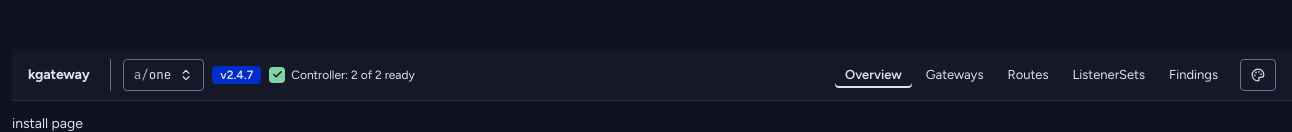
Scenario: shows the cluster landing and an install switcher when there are several installs
(page scrolled)
Click the button with aria-label "switch install".
click(163, 74)  # box [123,58,204,90]
(page scrolled)
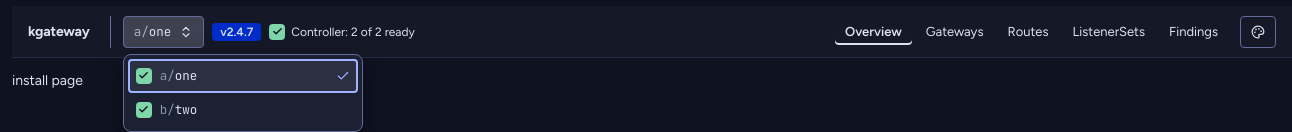
Expected: the menu item "b/two" is shown, [128,92,358,126]
